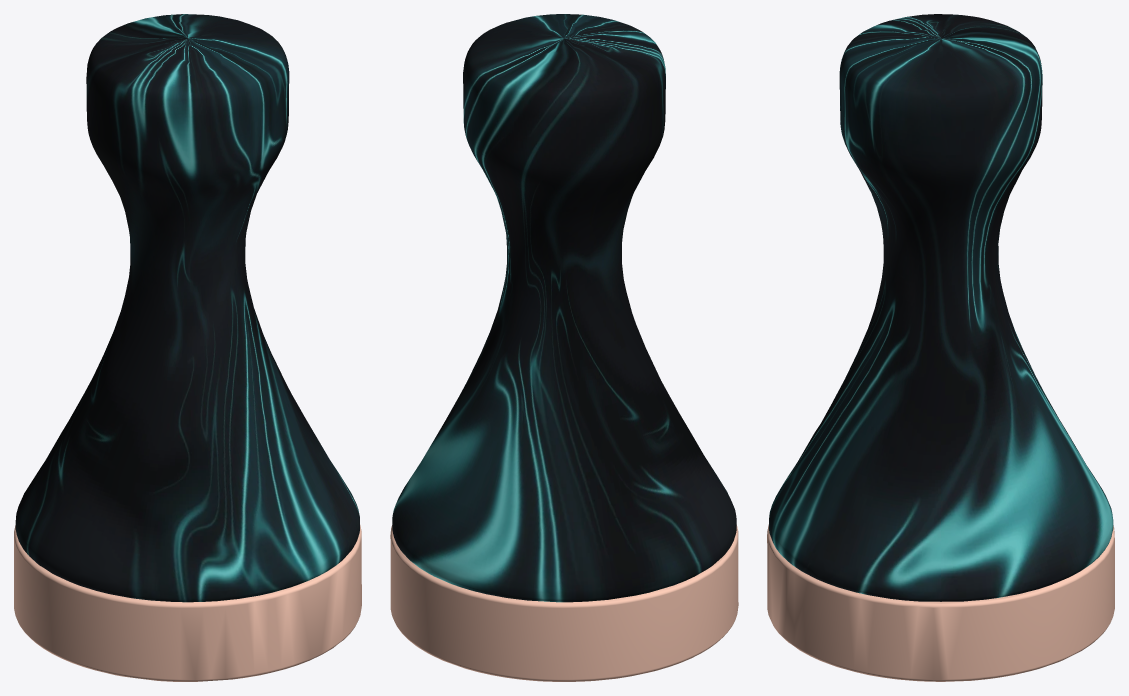
The model's file is rook-black.glb.
3 renders of one model, left to right at view 1: azimuth 30°, elevation 25°; view 2: azimuth 150°, elevation 25°; view 3: azimuth 270°, elevation 25°, orthographic.
Visible parts, largest first — view 1: vez_cerna; view 2: vez_cerna; view 3: vez_cerna.
Boxes of the visible parts, <box> form: vez_cerna: <box>14,14,361,681</box>; vez_cerna: <box>390,14,738,681</box>; vez_cerna: <box>767,14,1114,681</box>.
Size of the model in its own units: 0.6726 by 1.22 by 0.6725.
Materials: 2 (1 with a texture image).
